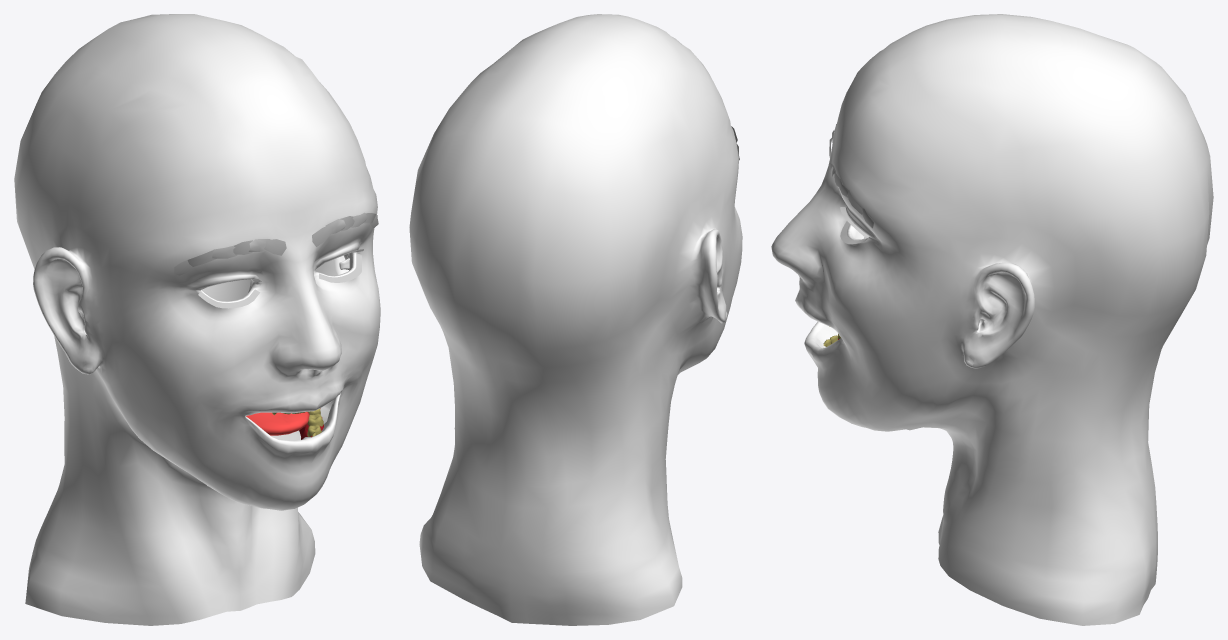
The picture shows the model from 3 angles, left to right: view 1: azimuth 30°, elevation 25°; view 2: azimuth 150°, elevation 25°; view 3: azimuth 270°, elevation 25°; orthographic projection. The views are drawn at different scales.
Parts seen in each view (by area): view 1: FaceMesh_Plane.003; view 2: FaceMesh_Plane.003; view 3: FaceMesh_Plane.003.
Part boxes in pixels (x1,y1,x2,y2): FaceMesh_Plane.003: (14,14,380,625); FaceMesh_Plane.003: (409,14,742,625); FaceMesh_Plane.003: (771,14,1213,625).
Bounding box in the file's own units: 1.54 × 2.71 × 1.95.
Materials: 5 (1 with a texture image).
